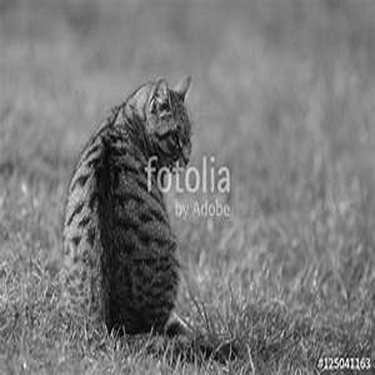cat: (63, 71, 199, 346)
